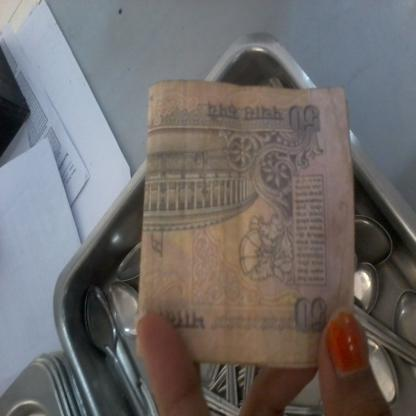Old50Back: (137, 78, 355, 367)
